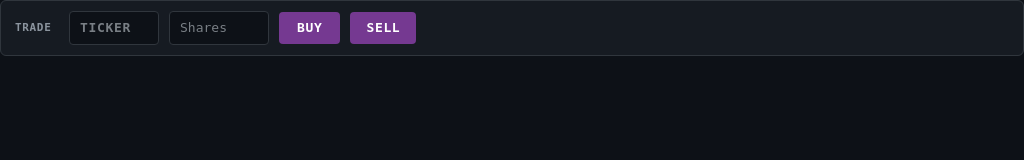
TradeBar › shows error when ticker is empty
In the number field with test id "trade-quantity-input": coordinates (219, 28) [169,11,269,44], type "5"
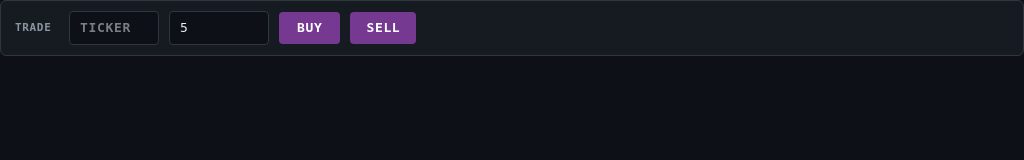
Click the button with test id "trade-buy-button": coordinates (310, 28) [279,12,340,44]
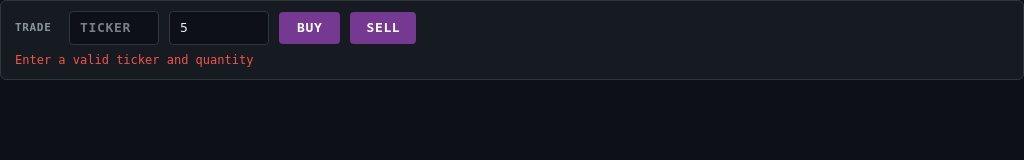
Expected: the text "Enter a valid ticker and quantity" is shown, [15,52,253,66]
